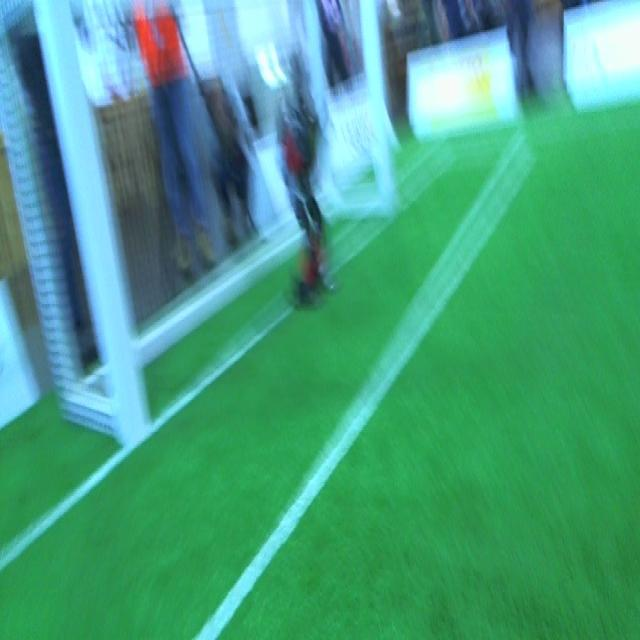goalpost: (33, 4, 150, 454), (360, 4, 398, 215)
